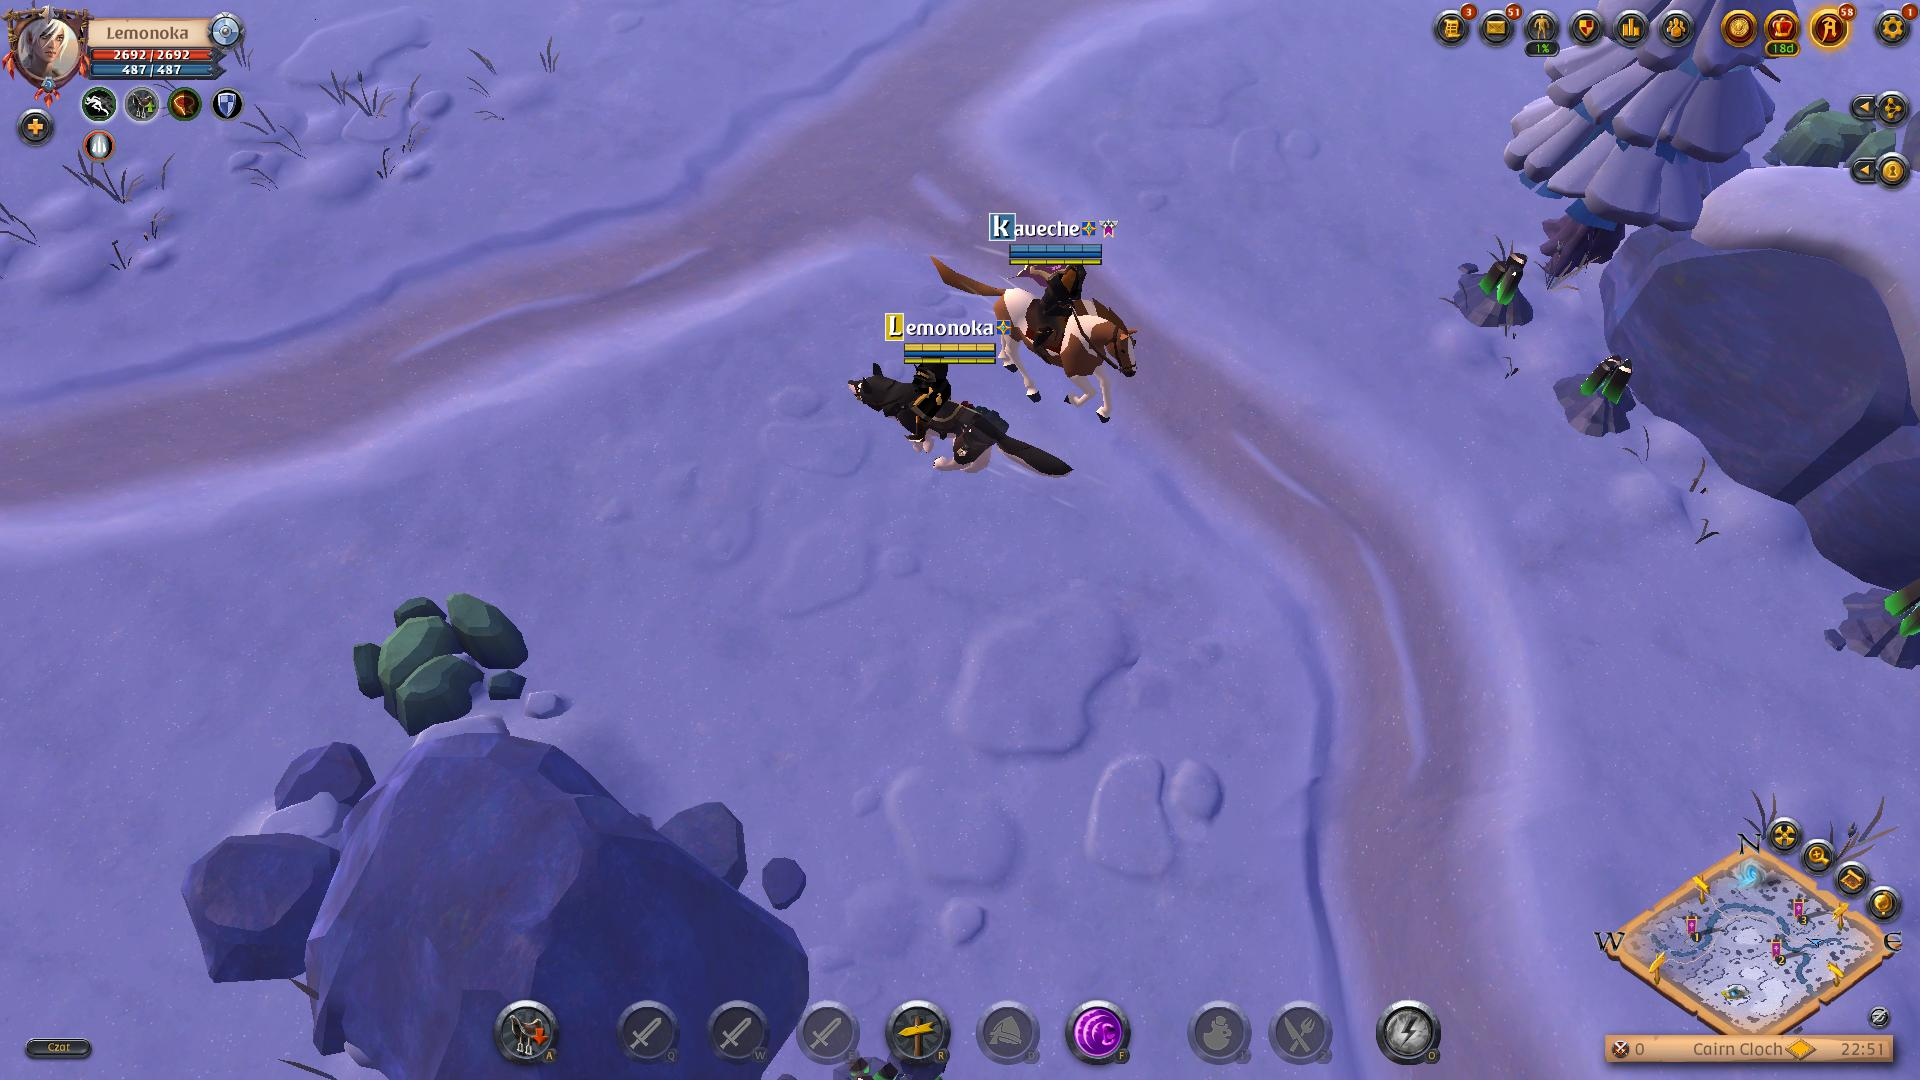ore tier 3: (1451, 243, 1545, 344), (1549, 353, 1640, 451)
rock tier 3: (348, 589, 533, 735)
